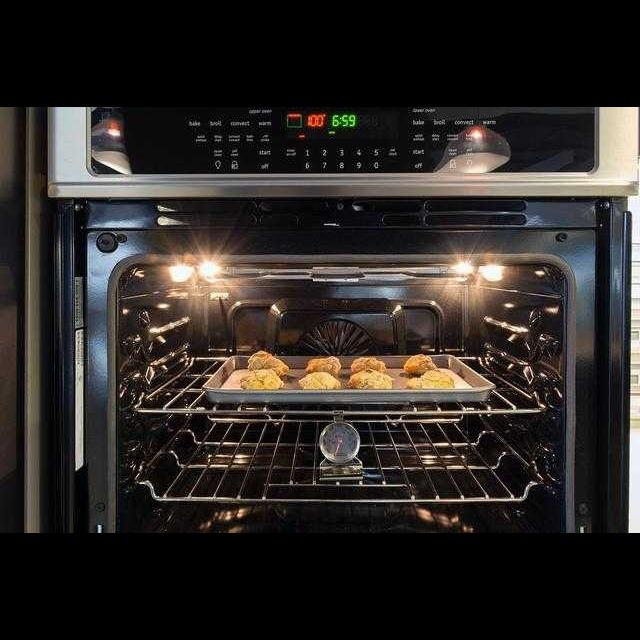Oven: (48, 175, 632, 533)
